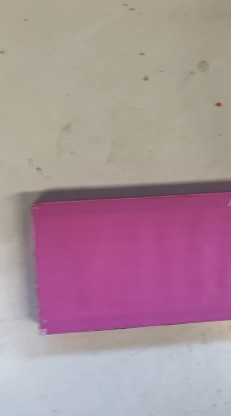pink: (45, 191, 217, 332)
